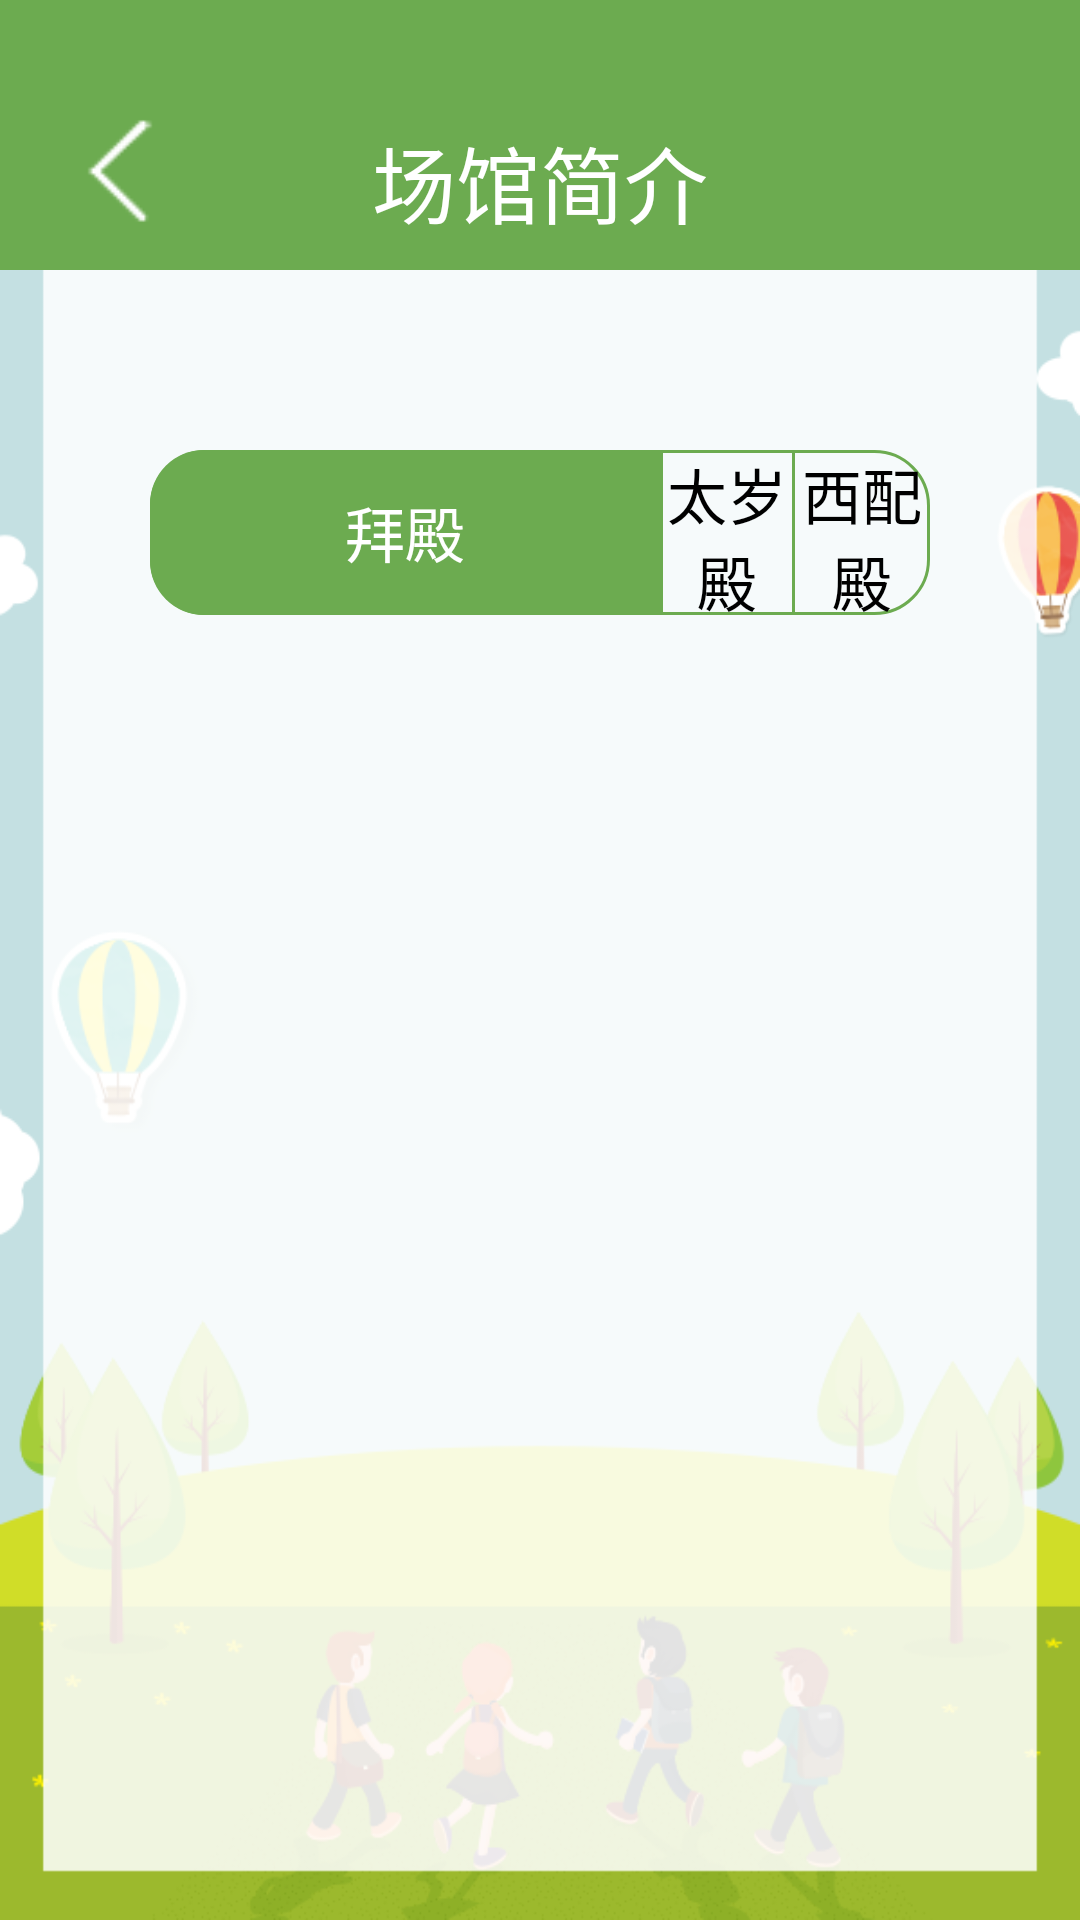

Locate icon controls on the screen. Image size 1080 × 1920, boxes as BBox(x1, y1, x2, y2).
dao back: BBox(88, 120, 152, 222)
